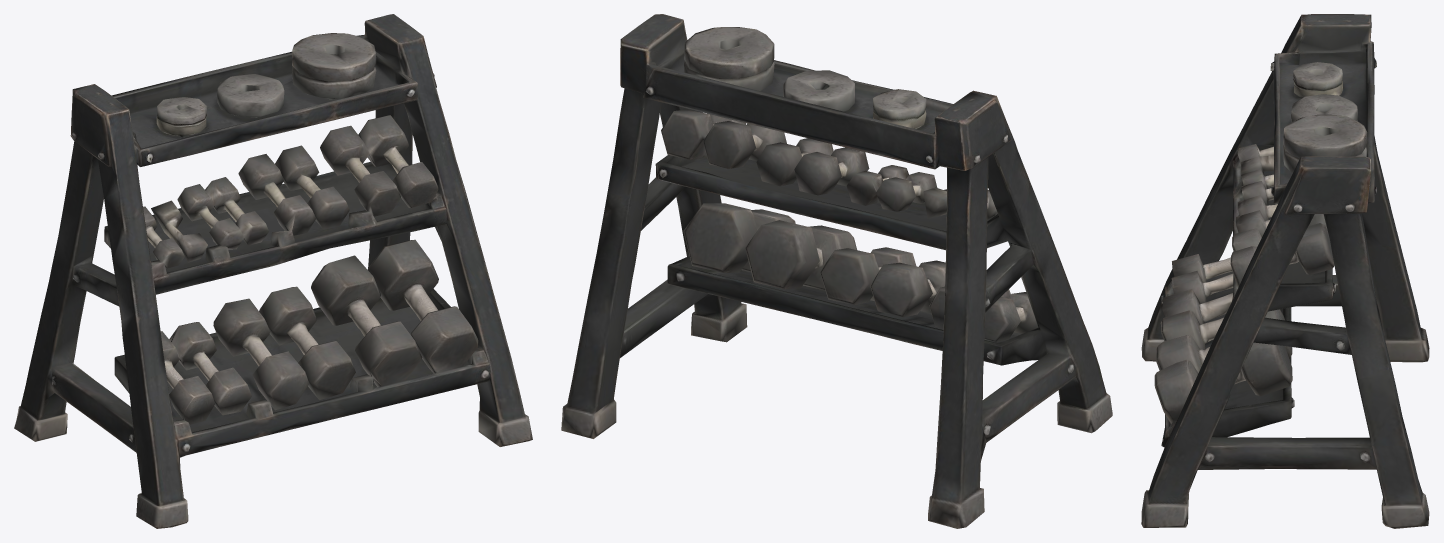
File: weight_rack.glb
The picture shows the model from 3 angles, left to right: view 1: azimuth 30°, elevation 25°; view 2: azimuth 150°, elevation 25°; view 3: azimuth 270°, elevation 25°; orthographic projection. The views are drawn at different scales.
Parts seen in each view (by area): view 1: weight_rack; view 2: weight_rack; view 3: weight_rack.
Boxes of the visible parts, x1=… form: weight_rack: x1=14, y1=14, x2=532, y2=528; weight_rack: x1=561, y1=14, x2=1112, y2=528; weight_rack: x1=1141, y1=14, x2=1429, y2=528.
Size of the model in its own units: 1.4 by 1.24 by 0.9282.
Materials: 1 (1 with a texture image).
